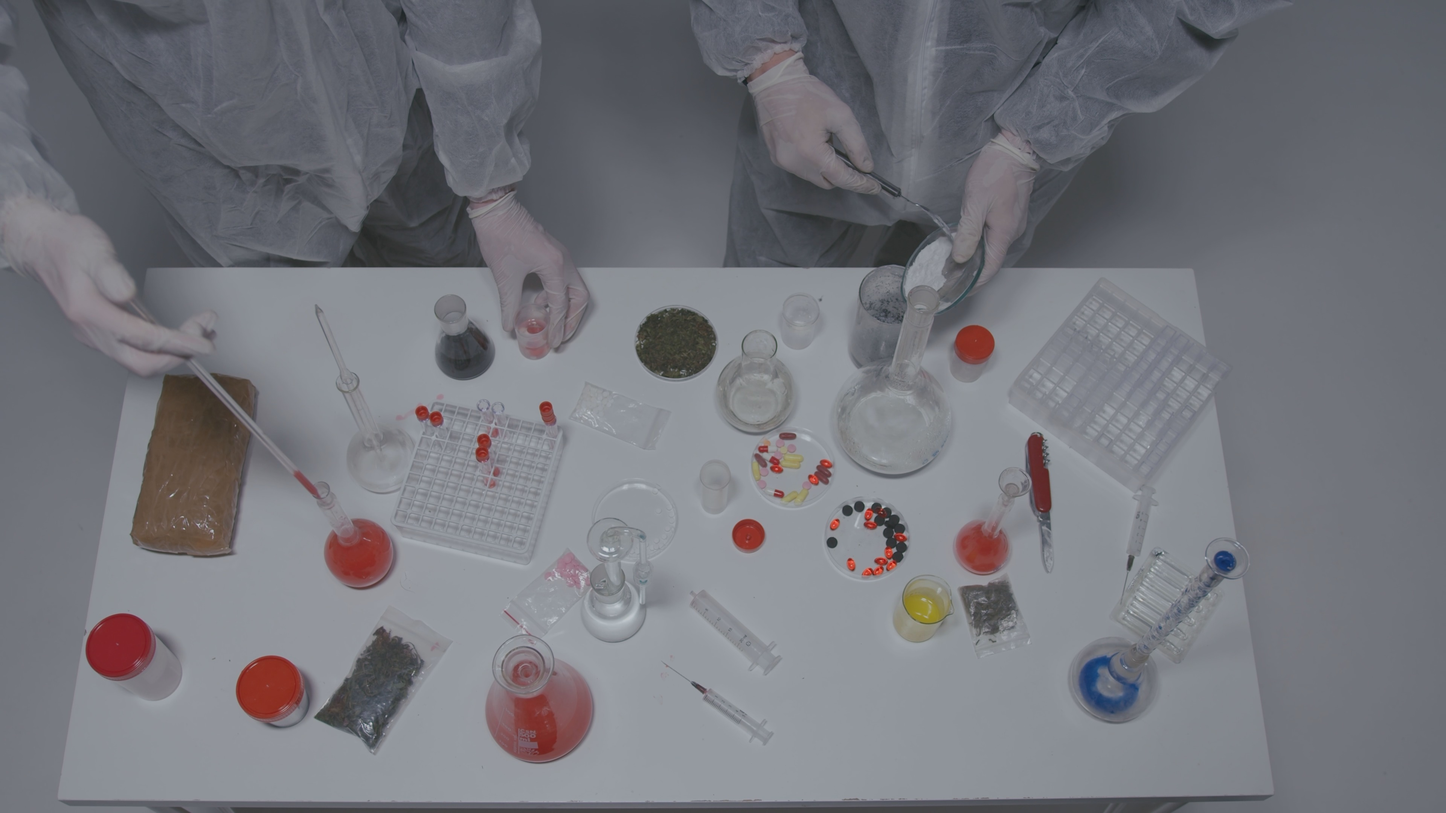gloves: (4, 200, 269, 381), (449, 184, 619, 356), (727, 49, 904, 214), (945, 114, 1052, 309)
